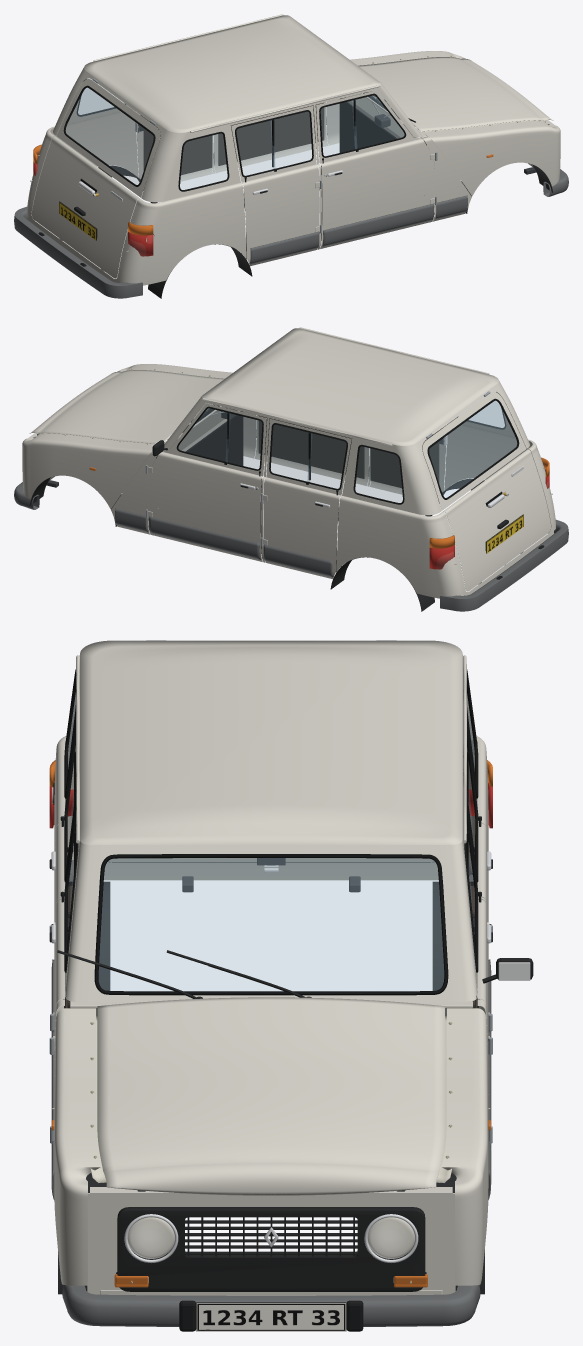
Rendered from caisse.glb.
3 renders of one model, top to bottom at view 1: azimuth 30°, elevation 25°; view 2: azimuth 150°, elevation 25°; view 3: azimuth 270°, elevation 25°, orthographic. The views are drawn at different scales.
Parts seen in each view (by area): view 1: caisse.peinture, hayon.peinture, portes.peinture, capot.peinture, portes.peinture.001, ailes-av.peinture, hayon.vitre, portes.vitre.001, portes.vitre, portes.garniture-porte.002, vitrage.vitre, pare-chocs.plastique-gris.001 (+17 smaller); view 2: caisse.peinture, hayon.peinture, portes.peinture.002, capot.peinture, portes.peinture.003, ailes-av.peinture.001, hayon.vitre, portes.vitre.003, portes.vitre.002, portes.garniture-porte, vitrage.vitre, pare-chocs.plastique-gris.001 (+17 smaller); view 3: caisse.peinture, capot.peinture, vitrage.vitre, calandre.plastique-noir, ailes-av.peinture, ailes-av.peinture.001, pare-chocs.plastique-gris, caisse.joint-vitre, pare-chocs.plaque, phares.cabochon-blanc, phares.reflecteur, caisse.passage-roue (+10 smaller).
Boxes of the visible parts, x1,y1,x2,y2 form: caisse.peinture: (27, 14, 555, 285); hayon.peinture: (32, 79, 160, 278); portes.peinture: (316, 90, 434, 248); capot.peinture: (358, 57, 553, 131); portes.peinture.001: (231, 106, 319, 266); ailes-av.peinture: (422, 120, 560, 196); hayon.vitre: (66, 88, 153, 184); portes.vitre.001: (236, 112, 311, 175); portes.vitre: (321, 95, 404, 155); portes.garniture-porte.002: (218, 102, 324, 165); vitrage.vitre: (77, 78, 398, 189); pare-chocs.plastique-gris.001: (14, 206, 142, 298); caisse.peinture: (27, 327, 555, 598); hayon.peinture: (422, 392, 550, 591); portes.peinture.002: (148, 403, 266, 561); capot.peinture: (29, 370, 224, 443); portes.peinture.003: (263, 419, 351, 579); ailes-av.peinture.001: (22, 433, 153, 509); hayon.vitre: (429, 401, 516, 497); portes.vitre.003: (271, 425, 346, 488); portes.vitre.002: (178, 408, 261, 468); portes.garniture-porte: (258, 415, 364, 478); vitrage.vitre: (184, 391, 505, 502); pare-chocs.plastique-gris.001: (440, 519, 568, 611); caisse.peinture: (52, 640, 488, 1295); capot.peinture: (97, 997, 445, 1195); vitrage.vitre: (68, 696, 474, 990); calandre.plastique-noir: (117, 1207, 425, 1291); ailes-av.peinture: (54, 1008, 100, 1285); ailes-av.peinture.001: (442, 1008, 488, 1285); pare-chocs.plastique-gris: (62, 1285, 480, 1326); caisse.joint-vitre: (53, 669, 478, 995); pare-chocs.plaque: (196, 1303, 346, 1331); phares.cabochon-blanc: (127, 1217, 414, 1258); phares.reflecteur: (128, 1217, 414, 1258); caisse.passage-roue: (58, 881, 484, 1294).
Bounding box in the file's own units: 3.75 × 1.24 × 1.68.
23 materials, 2 textured.
